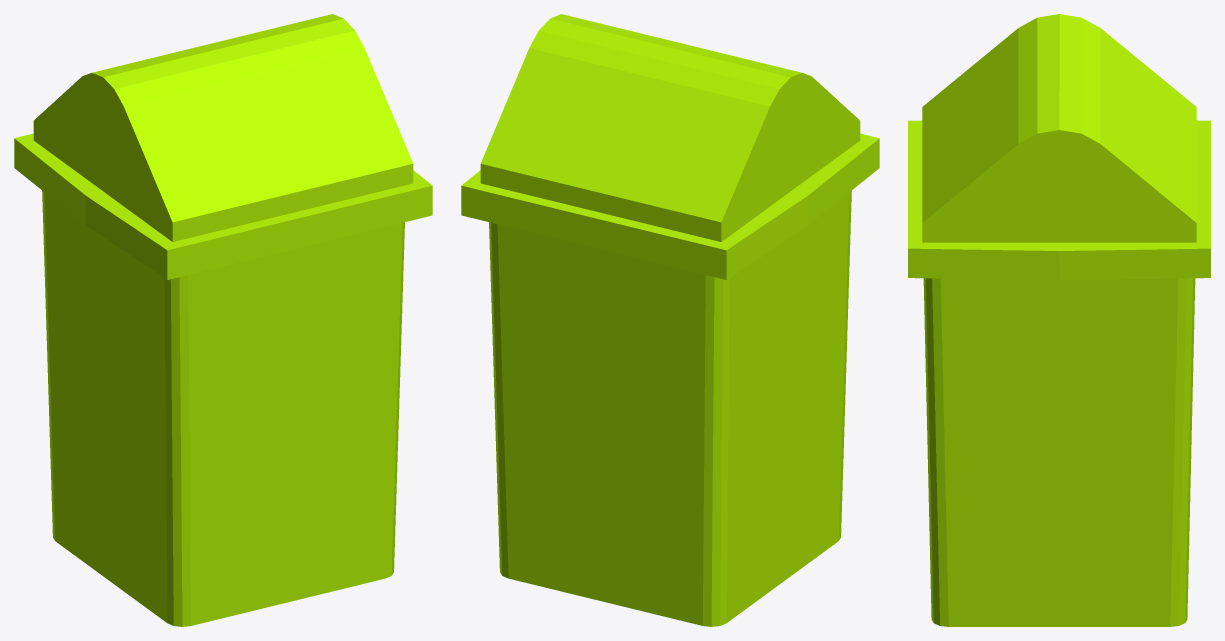
The model's file is tacho.fbx.
The picture shows the model from 3 angles, left to right: view 1: azimuth 30°, elevation 25°; view 2: azimuth 150°, elevation 25°; view 3: azimuth 270°, elevation 25°; orthographic projection.
Visible parts, largest first — view 1: TACHO; view 2: TACHO; view 3: TACHO.
Boxes of the visible parts, left/top/right/bottom form: TACHO: left=14, top=14, right=432, bottom=626; TACHO: left=461, top=14, right=879, bottom=626; TACHO: left=908, top=14, right=1210, bottom=626.
Size of the model in its own units: 230 by 405 by 222.
